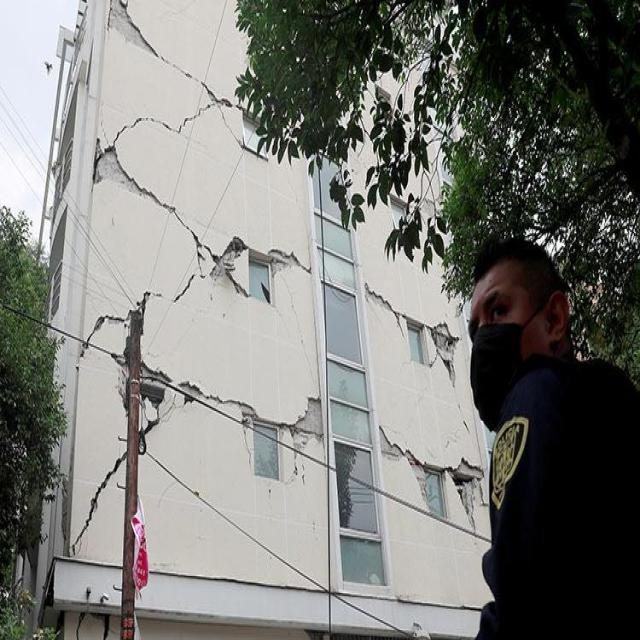damage: (84, 185, 210, 365), (354, 262, 478, 410), (365, 418, 493, 550), (160, 363, 294, 467), (114, 55, 241, 149), (216, 228, 312, 308), (68, 439, 132, 559), (84, 131, 150, 209), (100, 0, 162, 76), (288, 368, 324, 478)
